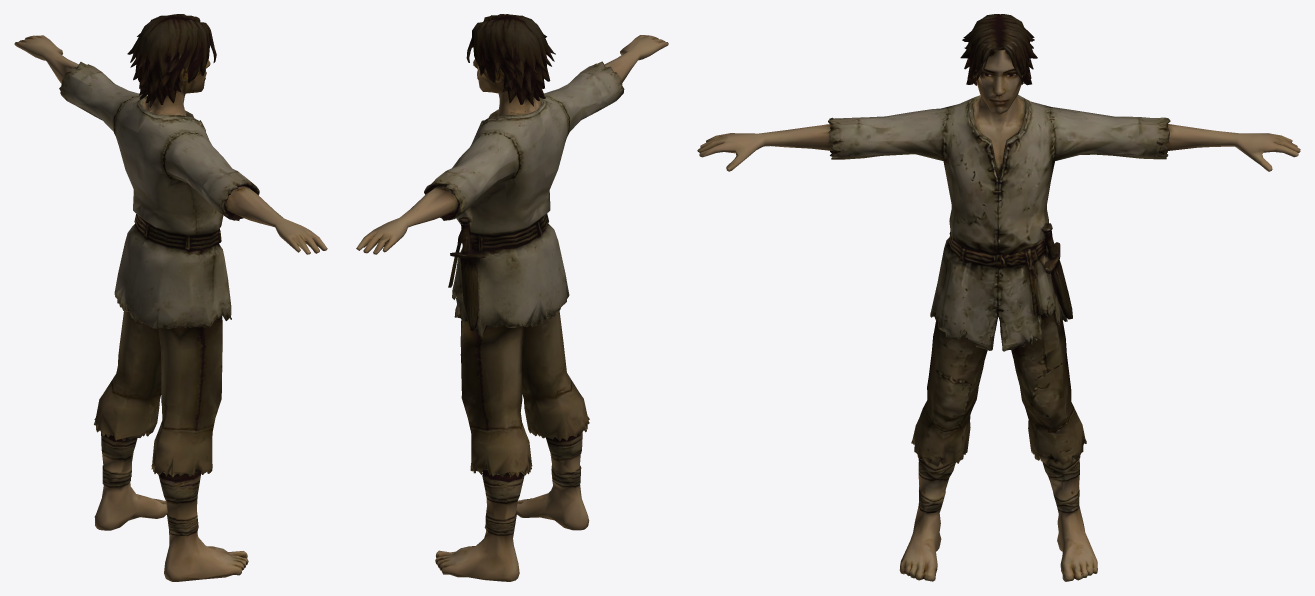
File: villager2.glb
The picture shows the model from 3 angles, left to right: view 1: azimuth 30°, elevation 25°; view 2: azimuth 150°, elevation 25°; view 3: azimuth 270°, elevation 25°; orthographic projection. The views are drawn at different scales.
Visible parts, largest first — view 1: tripo_node_7b2d231b-e386-4718-858a-37c77333e381; view 2: tripo_node_7b2d231b-e386-4718-858a-37c77333e381; view 3: tripo_node_7b2d231b-e386-4718-858a-37c77333e381.
Part boxes in pixels (x1,y1,x2,y2): tripo_node_7b2d231b-e386-4718-858a-37c77333e381: [14, 14, 327, 581]; tripo_node_7b2d231b-e386-4718-858a-37c77333e381: [356, 14, 668, 581]; tripo_node_7b2d231b-e386-4718-858a-37c77333e381: [697, 14, 1300, 581].
Size of the model in its own units: 0.1825 by 0.9995 by 0.9995.
Materials: 1 (1 with a texture image).
